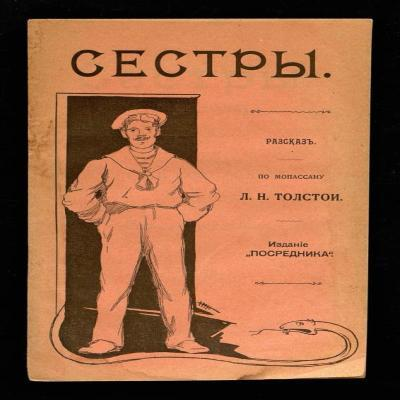rare_books: (28, 18, 372, 380)
